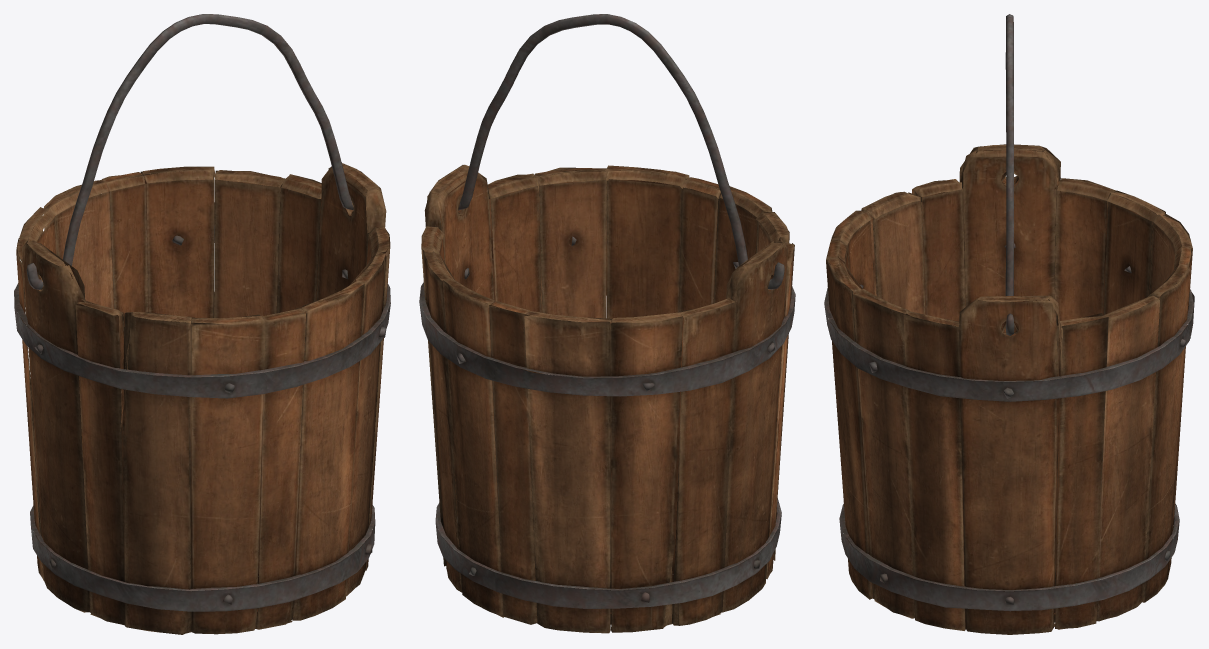
Rendered from wooden_bucket_01.glb.
3 views of the same model, side by side, from view 1: azimuth 30°, elevation 25°; view 2: azimuth 150°, elevation 25°; view 3: azimuth 270°, elevation 25° (orthographic).
Parts seen in each view (by area): view 1: wooden_bucket_01, wooden_bucket_01_handle; view 2: wooden_bucket_01, wooden_bucket_01_handle; view 3: wooden_bucket_01, wooden_bucket_01_handle.
Boxes of the visible parts, x1,y1,x2,y2 form: wooden_bucket_01: [14, 162, 390, 634]; wooden_bucket_01_handle: [26, 14, 353, 289]; wooden_bucket_01: [419, 164, 795, 633]; wooden_bucket_01_handle: [458, 14, 784, 289]; wooden_bucket_01: [824, 144, 1194, 634]; wooden_bucket_01_handle: [1005, 14, 1014, 335].
Size of the model in its own units: 0.367 by 0.5522 by 0.3417.
Materials: 1 (1 with a texture image).
